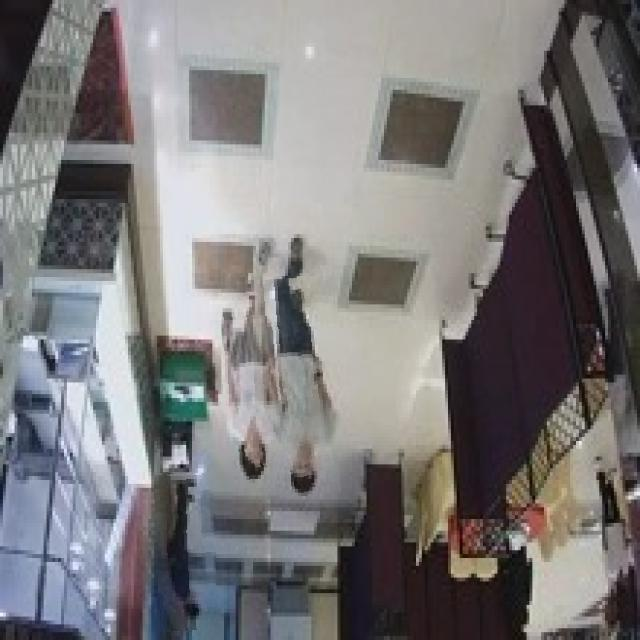normal: (270, 276, 338, 496), (222, 273, 277, 486), (155, 473, 216, 632)
